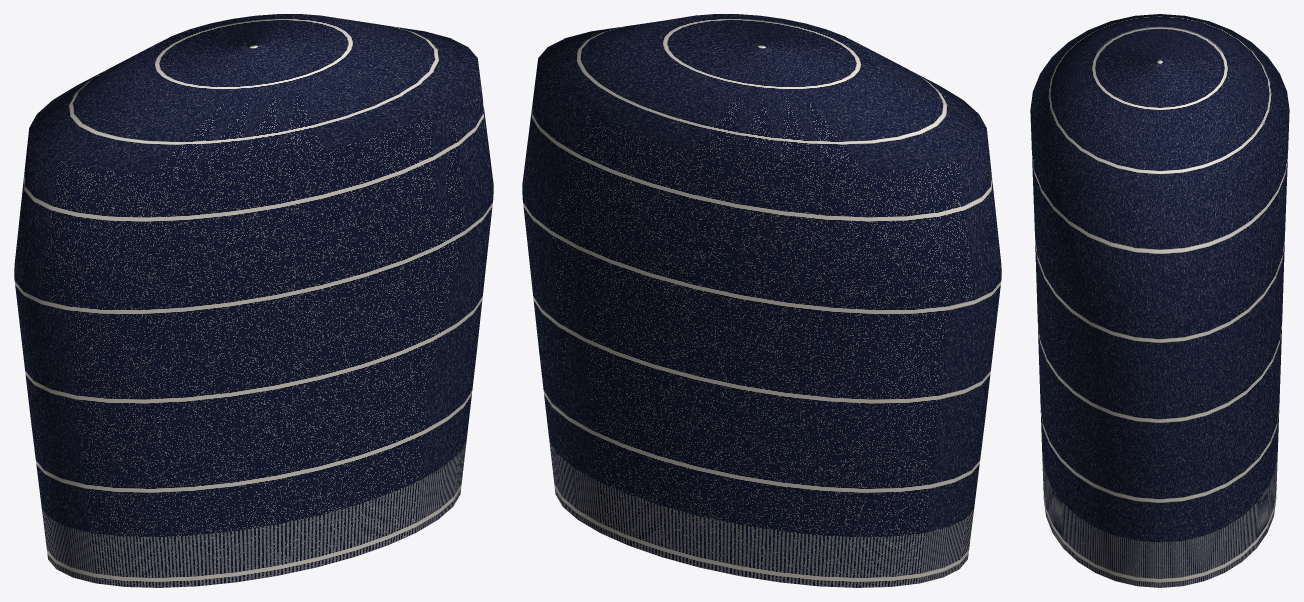
File: rebozo.obj
The picture shows the model from 3 angles, left to right: view 1: azimuth 30°, elevation 25°; view 2: azimuth 150°, elevation 25°; view 3: azimuth 270°, elevation 25°; orthographic projection. The views are drawn at different scales.
Parts seen in each view (by area): view 1: rebozo; view 2: rebozo; view 3: rebozo.
Boxes of the visible parts, left/top/right/bottom form: rebozo: left=14, top=14, right=493, bottom=587; rebozo: left=522, top=14, right=1001, bottom=587; rebozo: left=1030, top=14, right=1289, bottom=587.
Bounding box in the file's own units: 0.55 × 0.54 × 0.29.
Materials: 1 (1 with a texture image).
